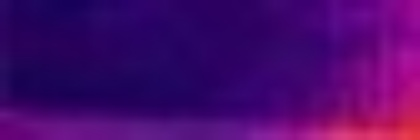Shadow: (1, 1, 339, 118)
